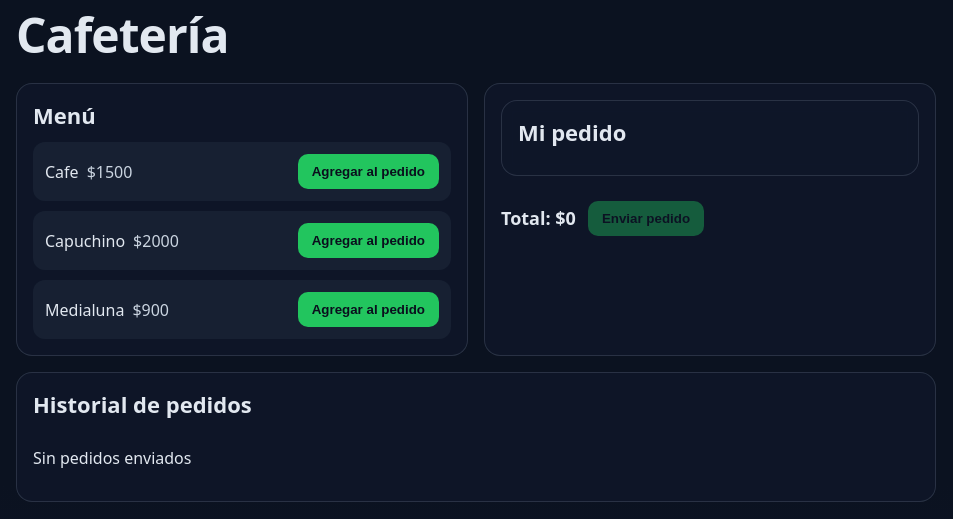
Test case: HU2 › agrega item al pedido
Expected: the list item "Cafe$1500 Agregar al pedido" is shown, [33,142,451,201]
Click the button with aria-label "agregar-1" at (368, 172), box [298,154,439,189]
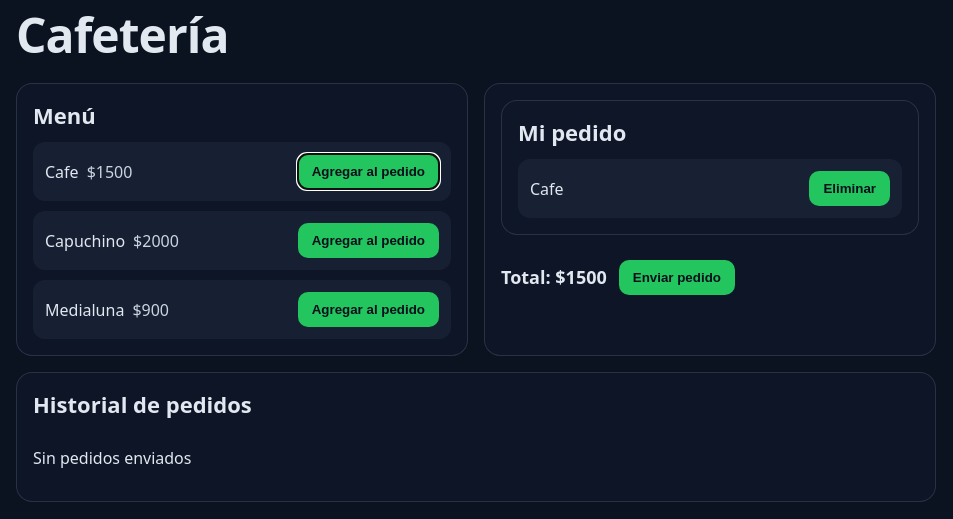
Result: the list "Cafe Eliminar" is shown at [518,159,902,218]
Result: the text "Cafe" below "Mi pedido" is shown at [530,178,564,200]
